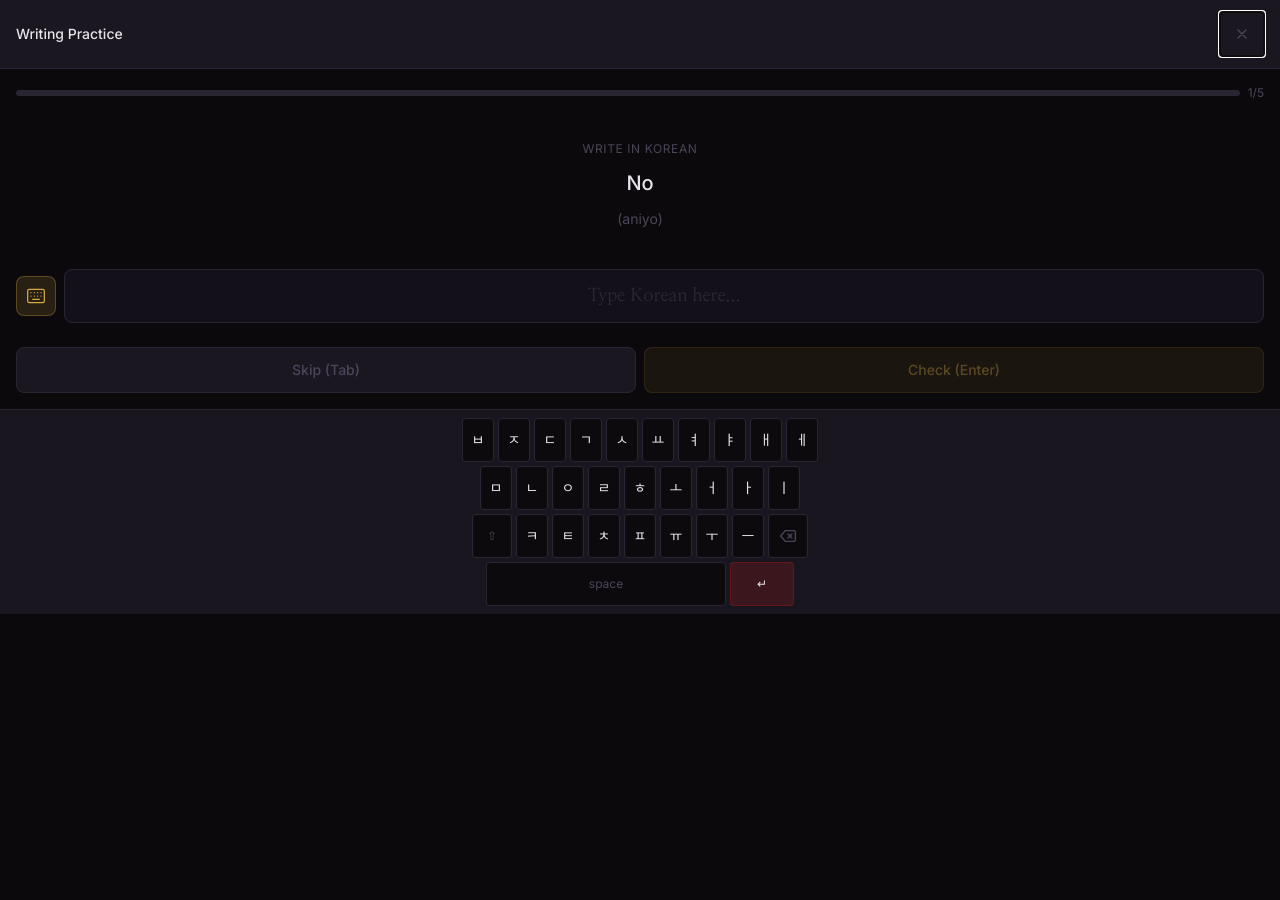
WritingMode › answer checking › shows Next button after checking
Type "테스트" into the field with placeholder "Type Korean here..." at (664,296), box [64,269,1264,323]
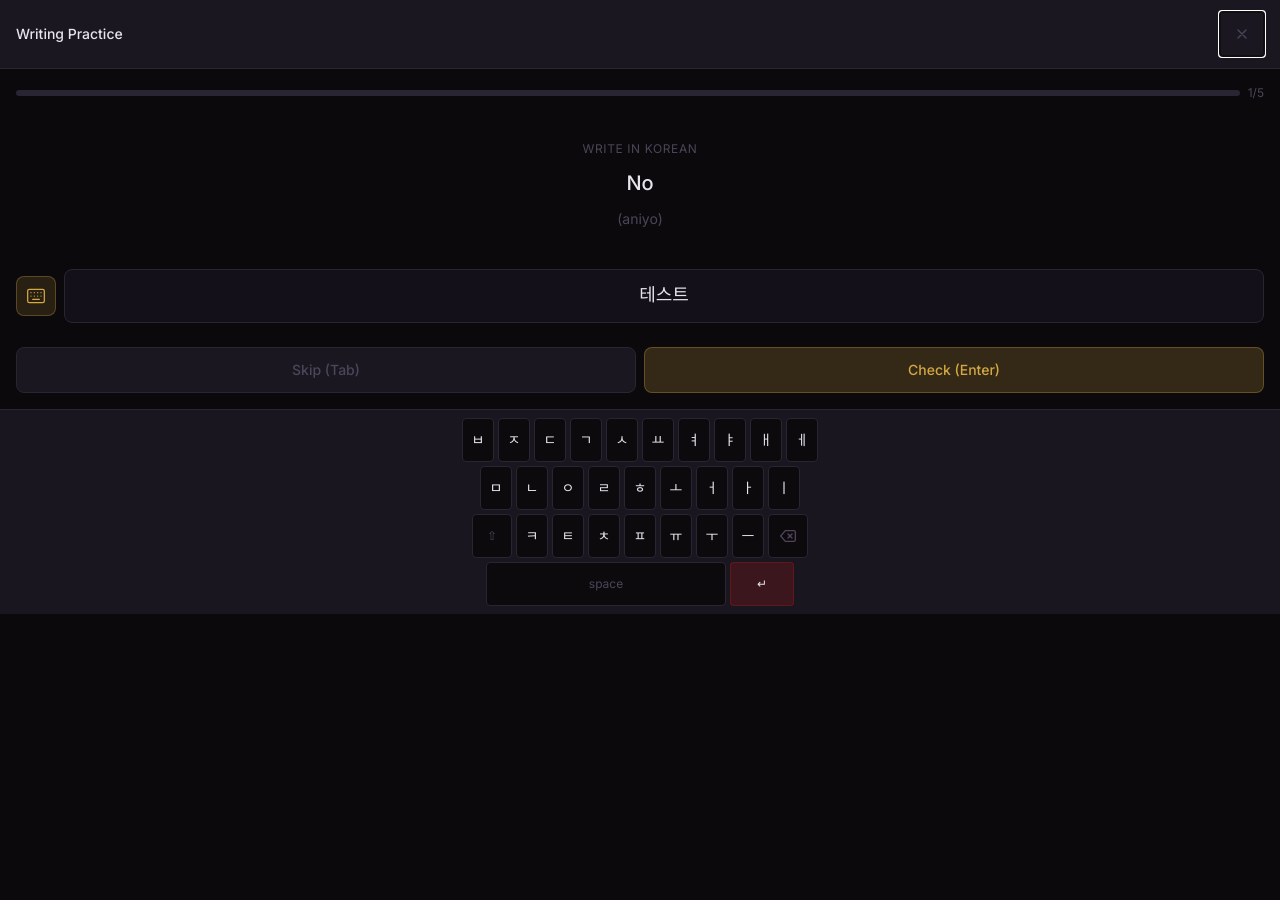
Click the button "Check (Enter)" at (954,370), box [644,347,1264,393]
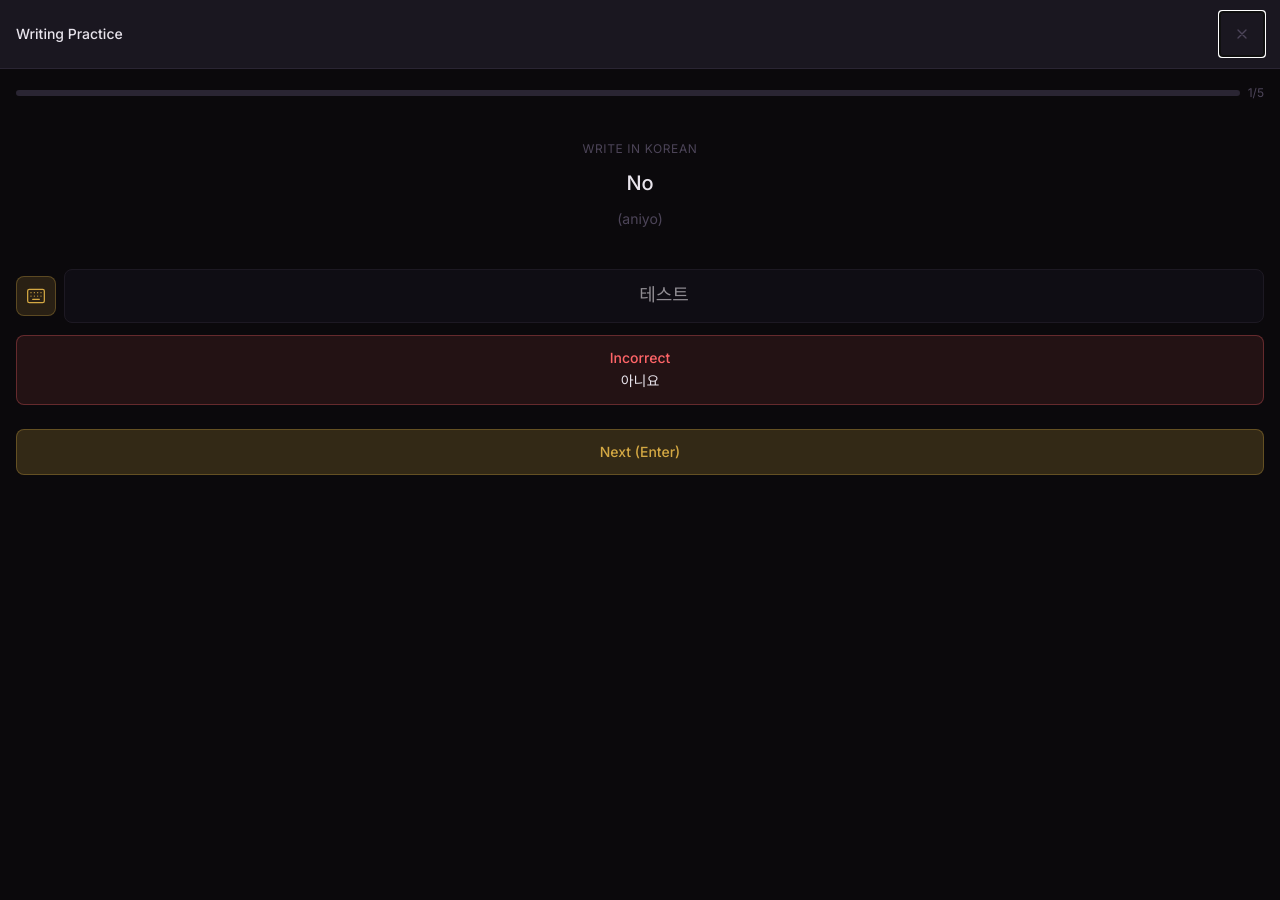
Expected: the button "Next (Enter)" is shown, [16,429,1264,475]
